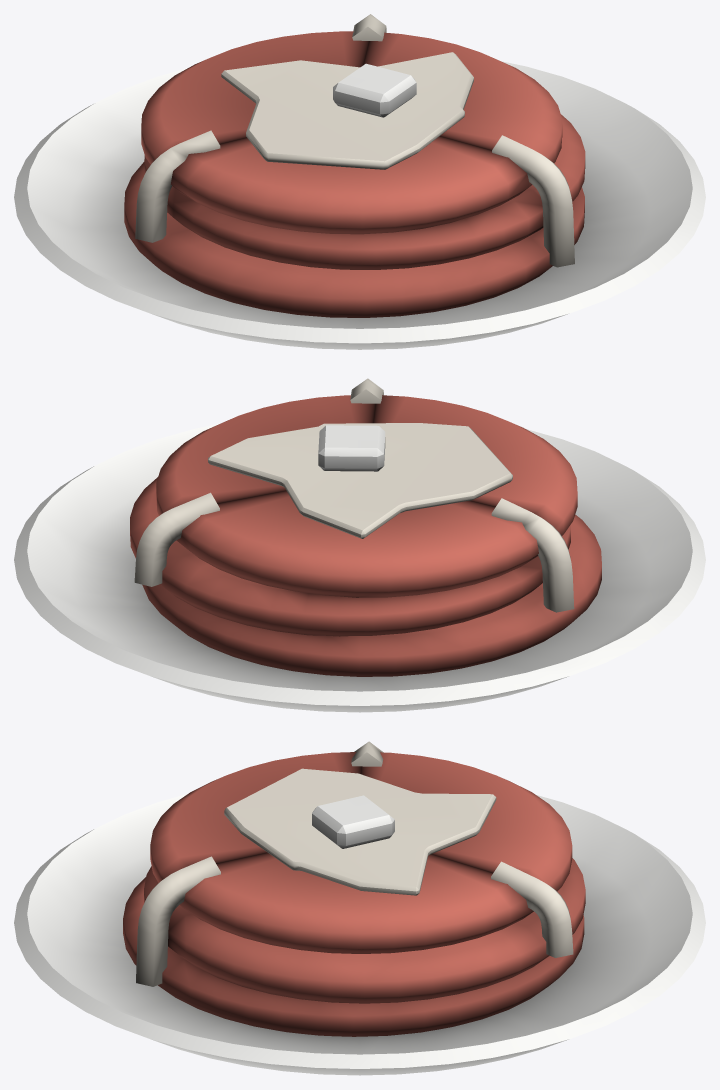
File: meal_pancake.glb
3 renders of one model, top to bottom at view 1: azimuth 30°, elevation 25°; view 2: azimuth 150°, elevation 25°; view 3: azimuth 270°, elevation 25°, orthographic.
Visible parts, largest first — view 1: PART; view 2: PART; view 3: PART.
Boxes of the visible parts, x1,y1,x2,y2 form: PART: (14, 14, 705, 349); PART: (14, 378, 705, 712); PART: (14, 741, 705, 1075).
Bounding box in the file's own units: 0.21 × 0.0575 × 0.21.
